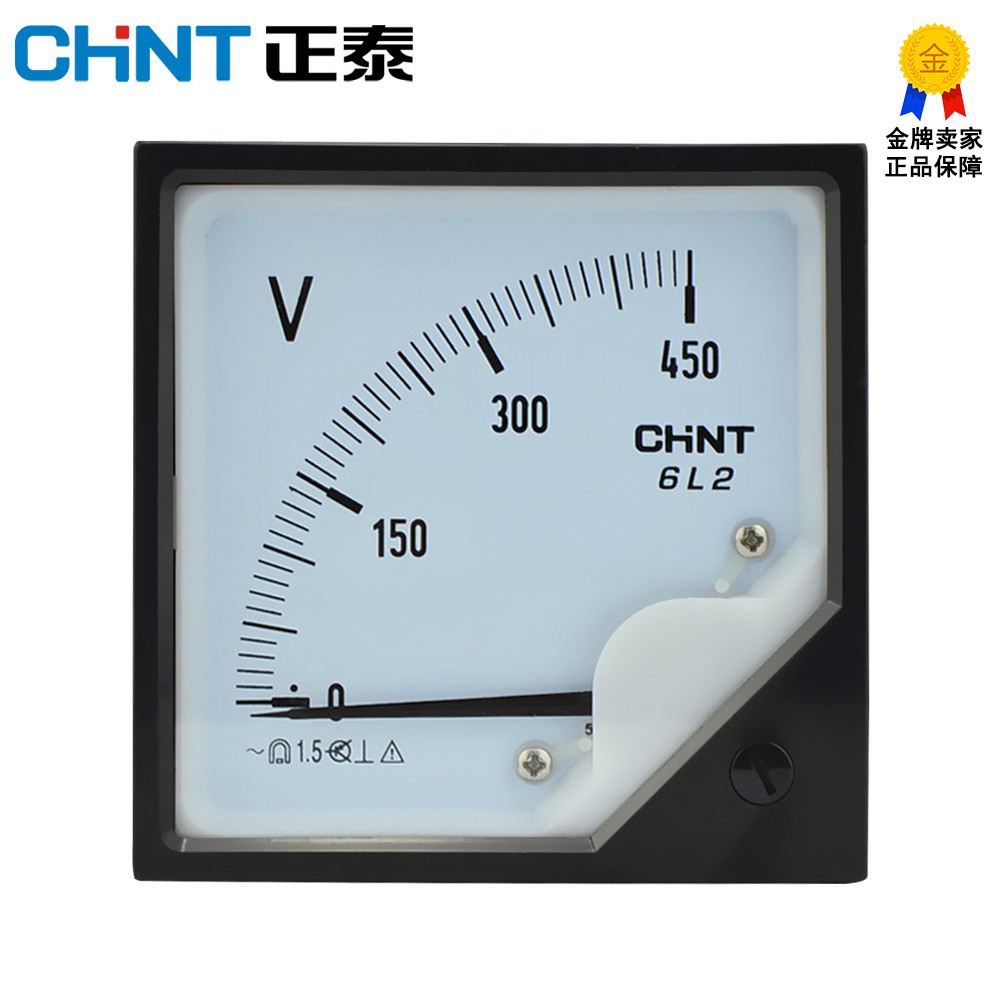pointer: (165, 177, 818, 851)
